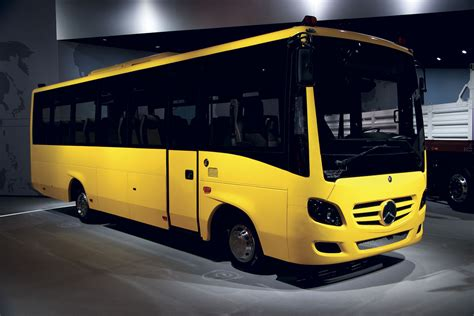bus: (29, 32, 428, 264)
